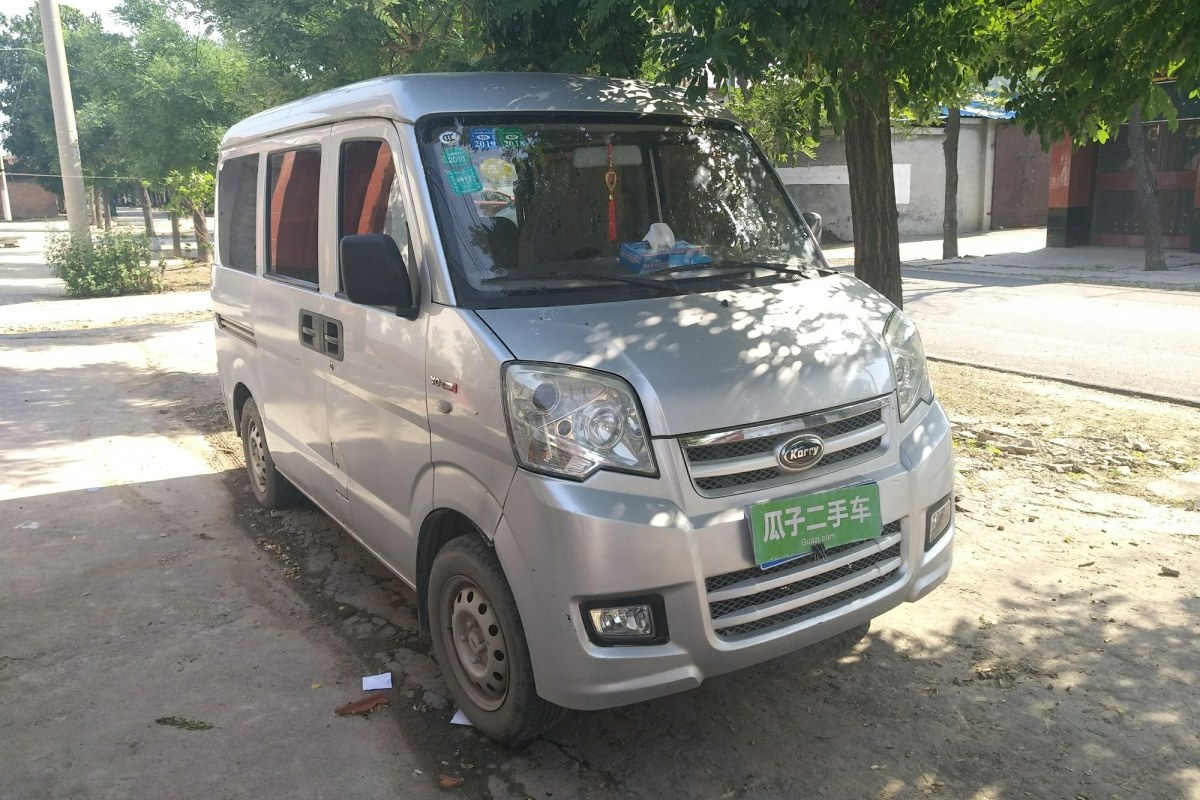minibus: (156, 77, 973, 694)
